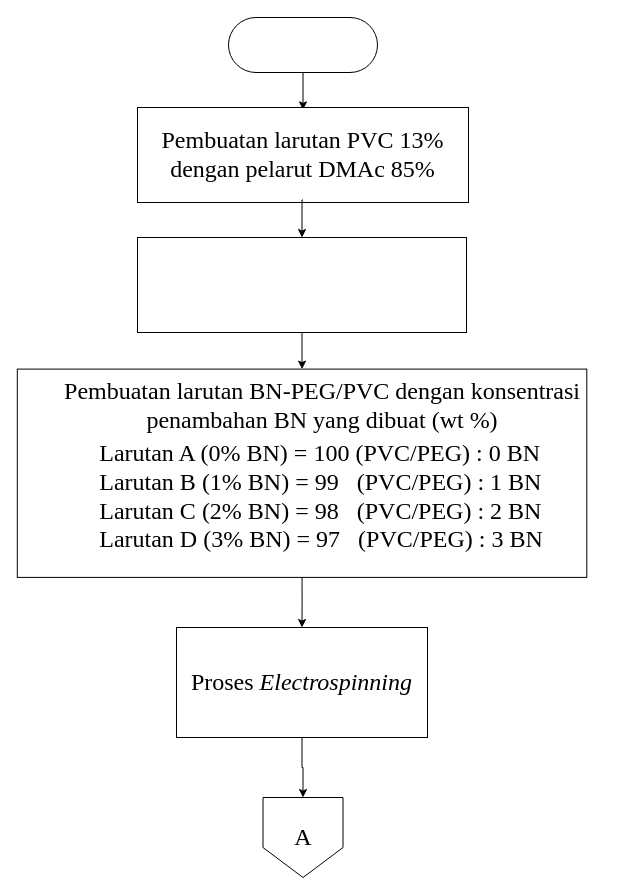
Image size: 624x895. Some labels were removed from this diagram. Here are the shapes that lost their labels. From the top down, the centre of each, then its label:
At pixel 303 44: "Mulai".
At pixel 301 284: "Penambahan konsentrasi PEG 2% ke dalam larutan PVC".
